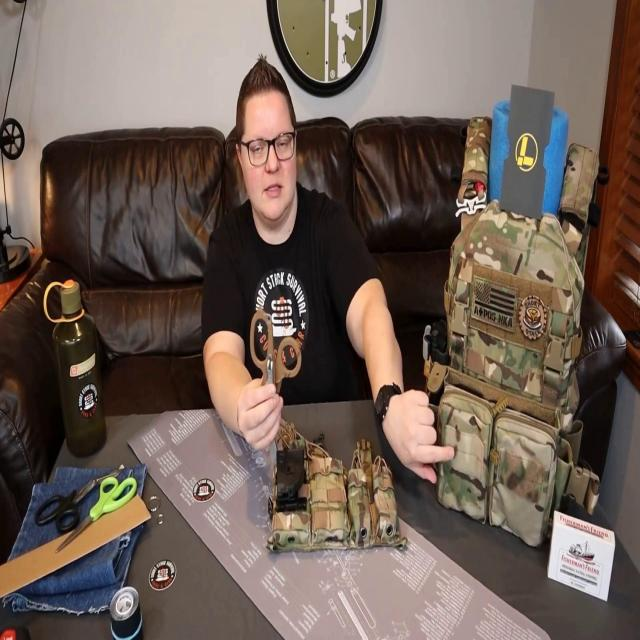scissor: (56, 476, 138, 554), (36, 468, 119, 533), (250, 308, 302, 401)
